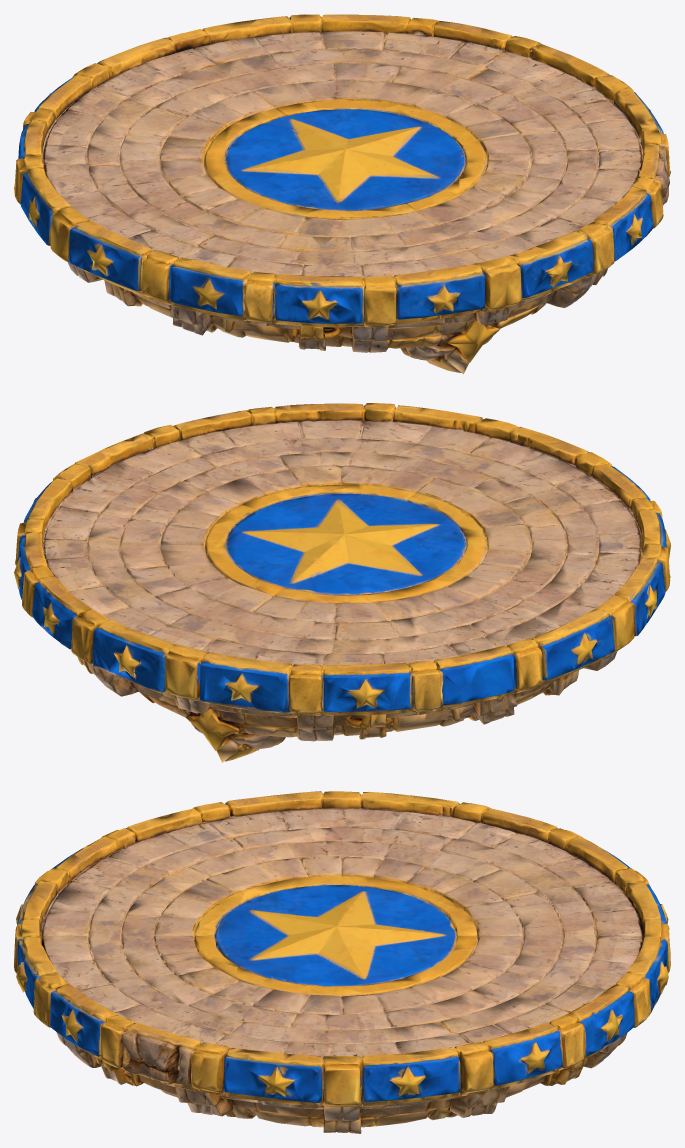
The model's file is starlight.glb.
3 views of the same model, one above another, from view 1: azimuth 30°, elevation 25°; view 2: azimuth 150°, elevation 25°; view 3: azimuth 270°, elevation 25° (orthographic).
Visible parts, largest first — view 1: arena; view 2: arena; view 3: arena.
Boxes of the visible parts, bbox=[...] form: arena: bbox=[14, 14, 670, 374]; arena: bbox=[14, 403, 670, 762]; arena: bbox=[14, 791, 670, 1133].
Size of the model in its own units: 190 by 48.61 by 189.
Materials: 1 (1 with a texture image).
